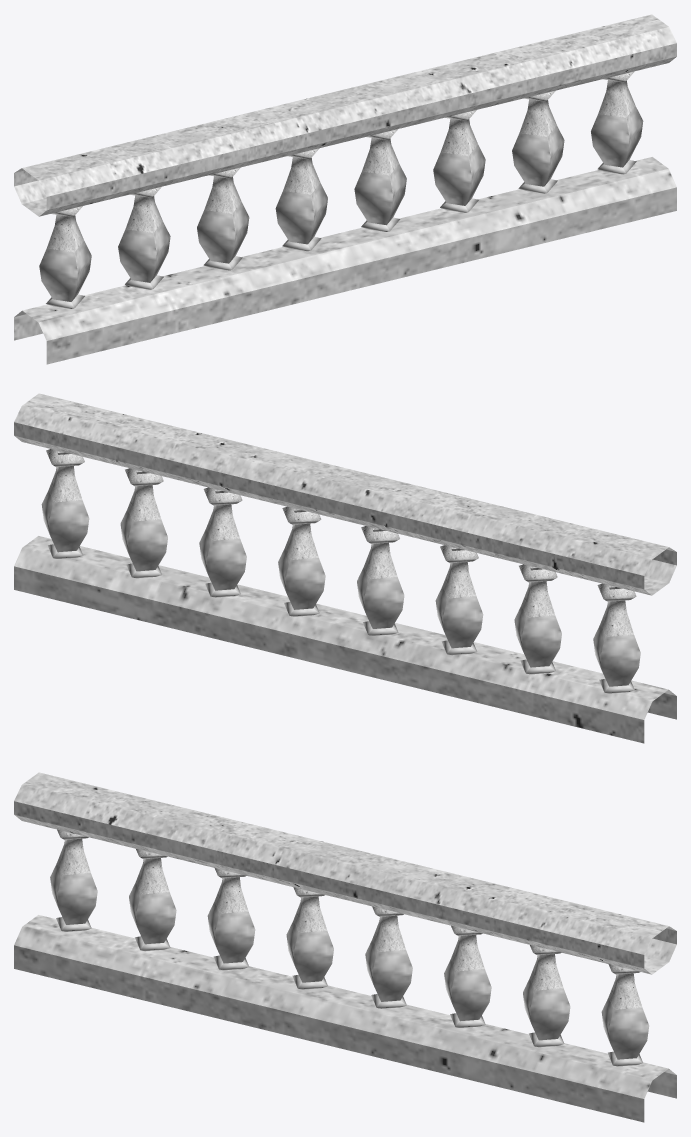
File: pm-railing-01.glb
The picture shows the model from 3 angles, top to bottom: view 1: azimuth 30°, elevation 25°; view 2: azimuth 150°, elevation 25°; view 3: azimuth 330°, elevation 25°; orthographic projection.
Parts seen in each view (by area): view 1: Railing_01; view 2: Railing_01; view 3: Railing_01.
Boxes of the visible parts, <box> form: Railing_01: <box>14,14,676,364</box>; Railing_01: <box>14,393,676,743</box>; Railing_01: <box>14,772,676,1122</box>.
Size of the model in its own units: 4 by 1.08 by 0.3848.
Materials: 1 (1 with a texture image).
